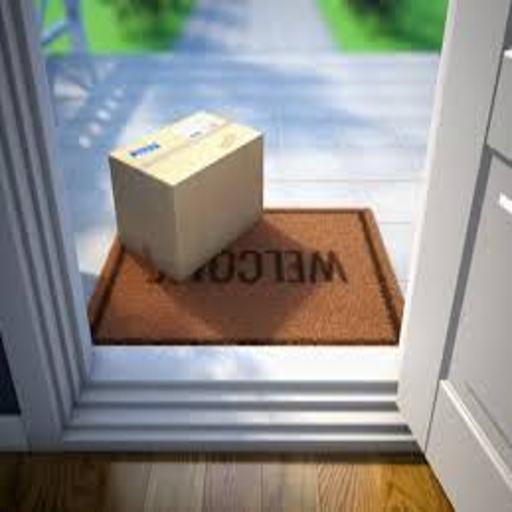Other: (105, 108, 269, 282)
